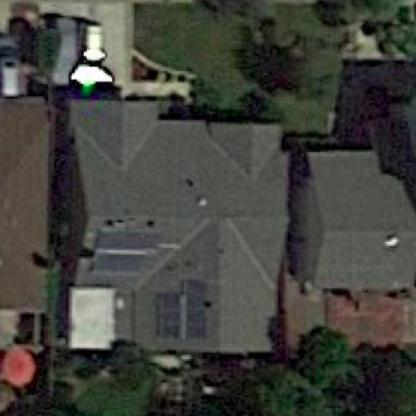car: (70, 14, 112, 96), (34, 9, 76, 87)
solar_panel: (152, 270, 217, 346), (92, 219, 168, 283)
